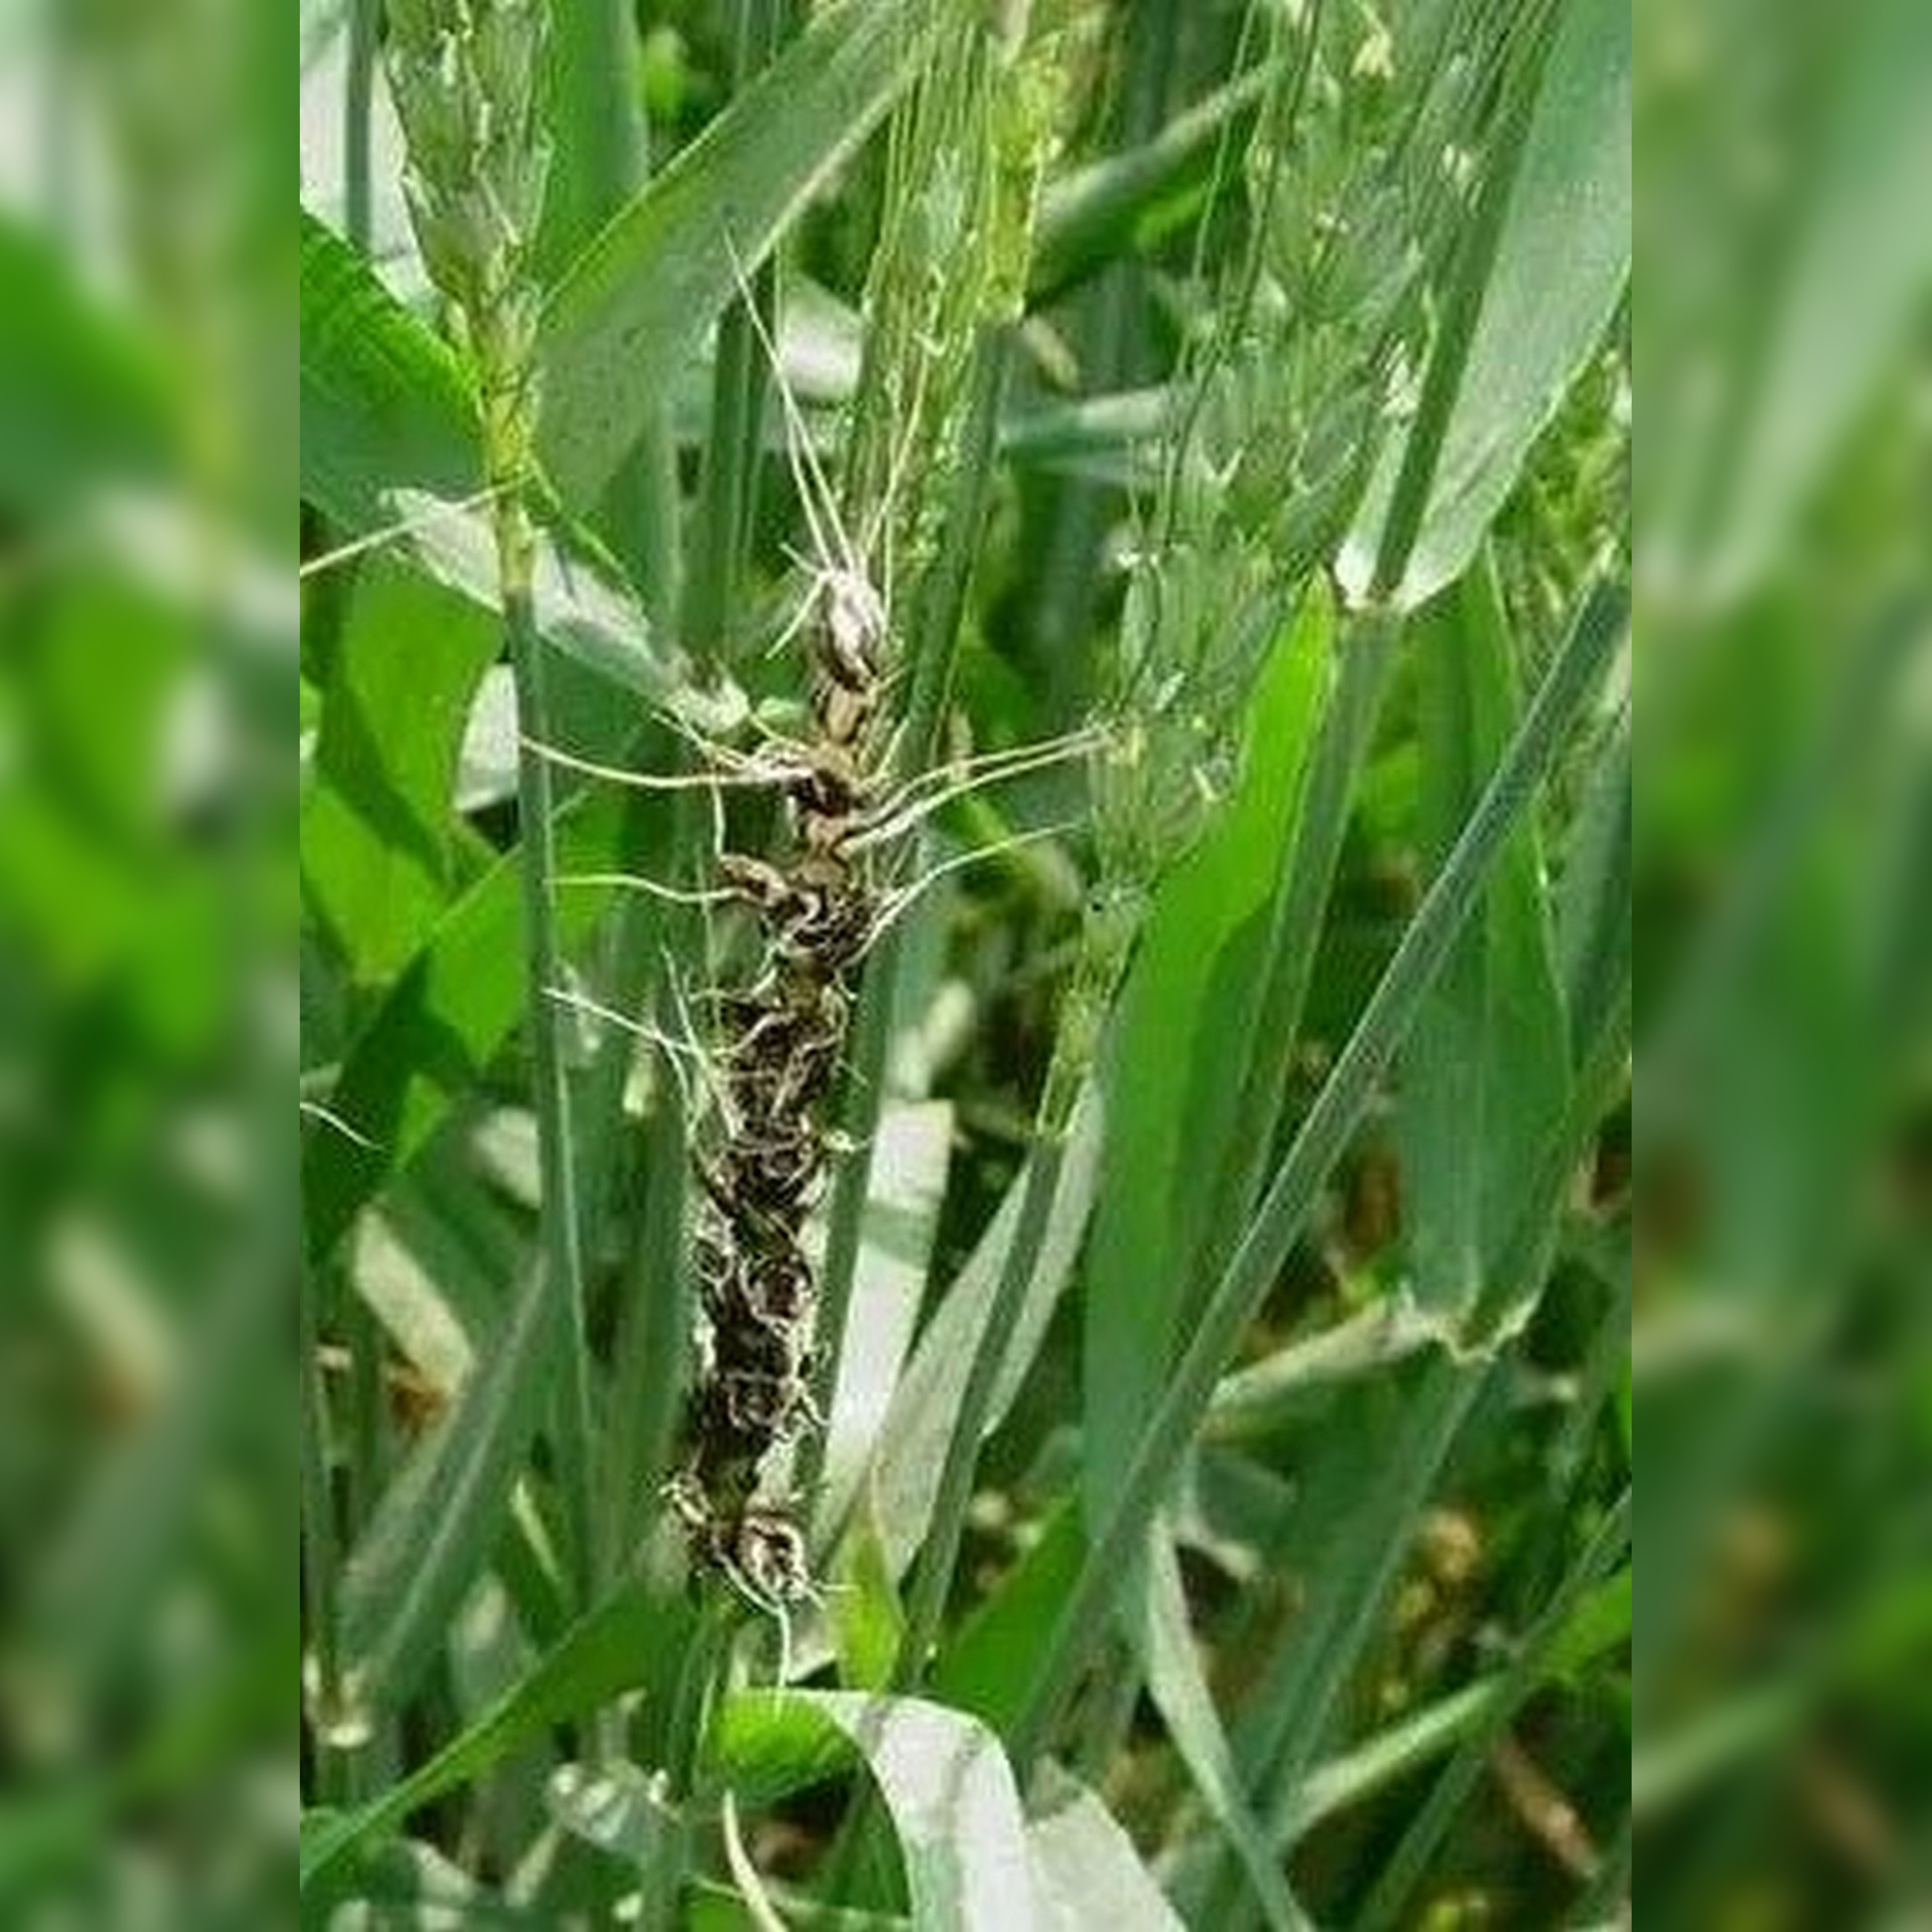Wheat Loose Smut: (653, 575, 962, 1545)
